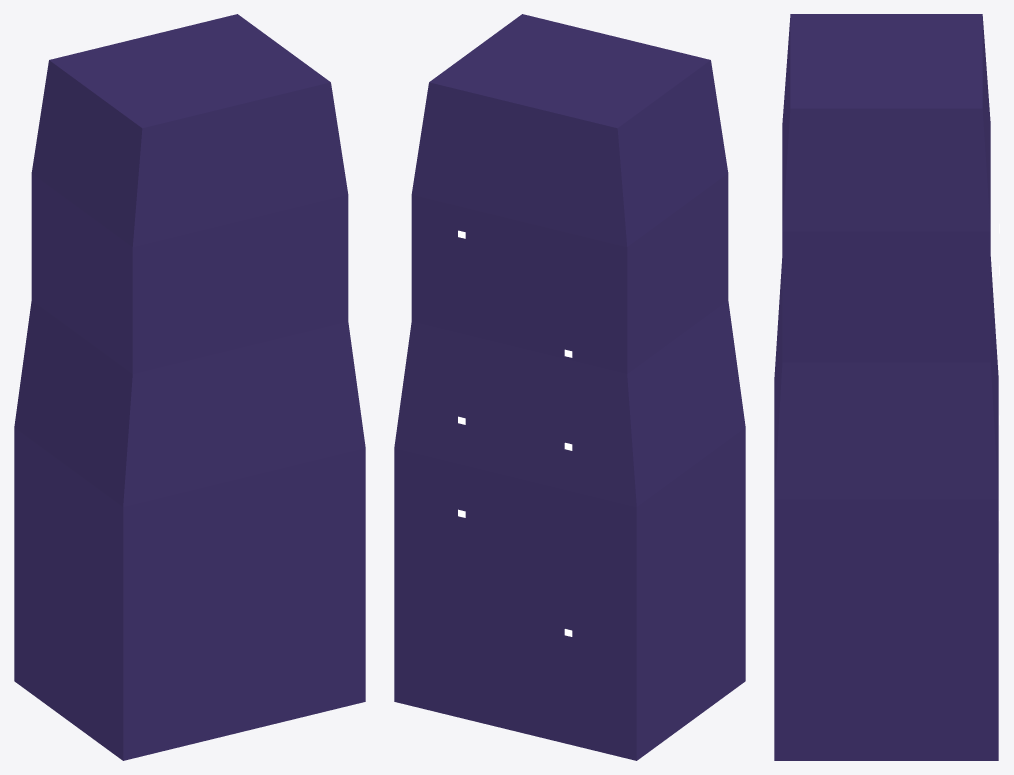
The model's file is 01_pulse_block_44m.glb.
3 views of the same model, side by side, from view 1: azimuth 30°, elevation 25°; view 2: azimuth 150°, elevation 25°; view 3: azimuth 270°, elevation 25° (orthographic). The views are drawn at different scales.
Visible parts, largest first — view 1: body; view 2: body; view 3: body.
Boxes of the visible parts, x1,y1,x2,y2 form: body: (14,14,365,760); body: (394,14,745,760); body: (774,14,998,760).
Bounding box in the file's own units: 18 × 44 × 14.05.
